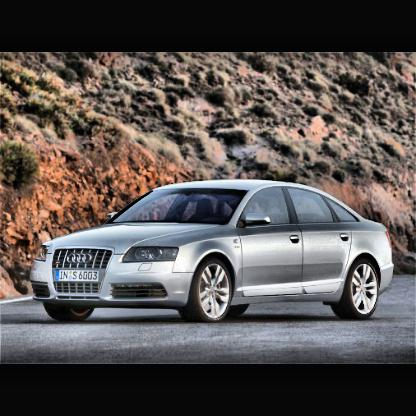Audi S6 Sedan 2011: (30, 182, 395, 325)
